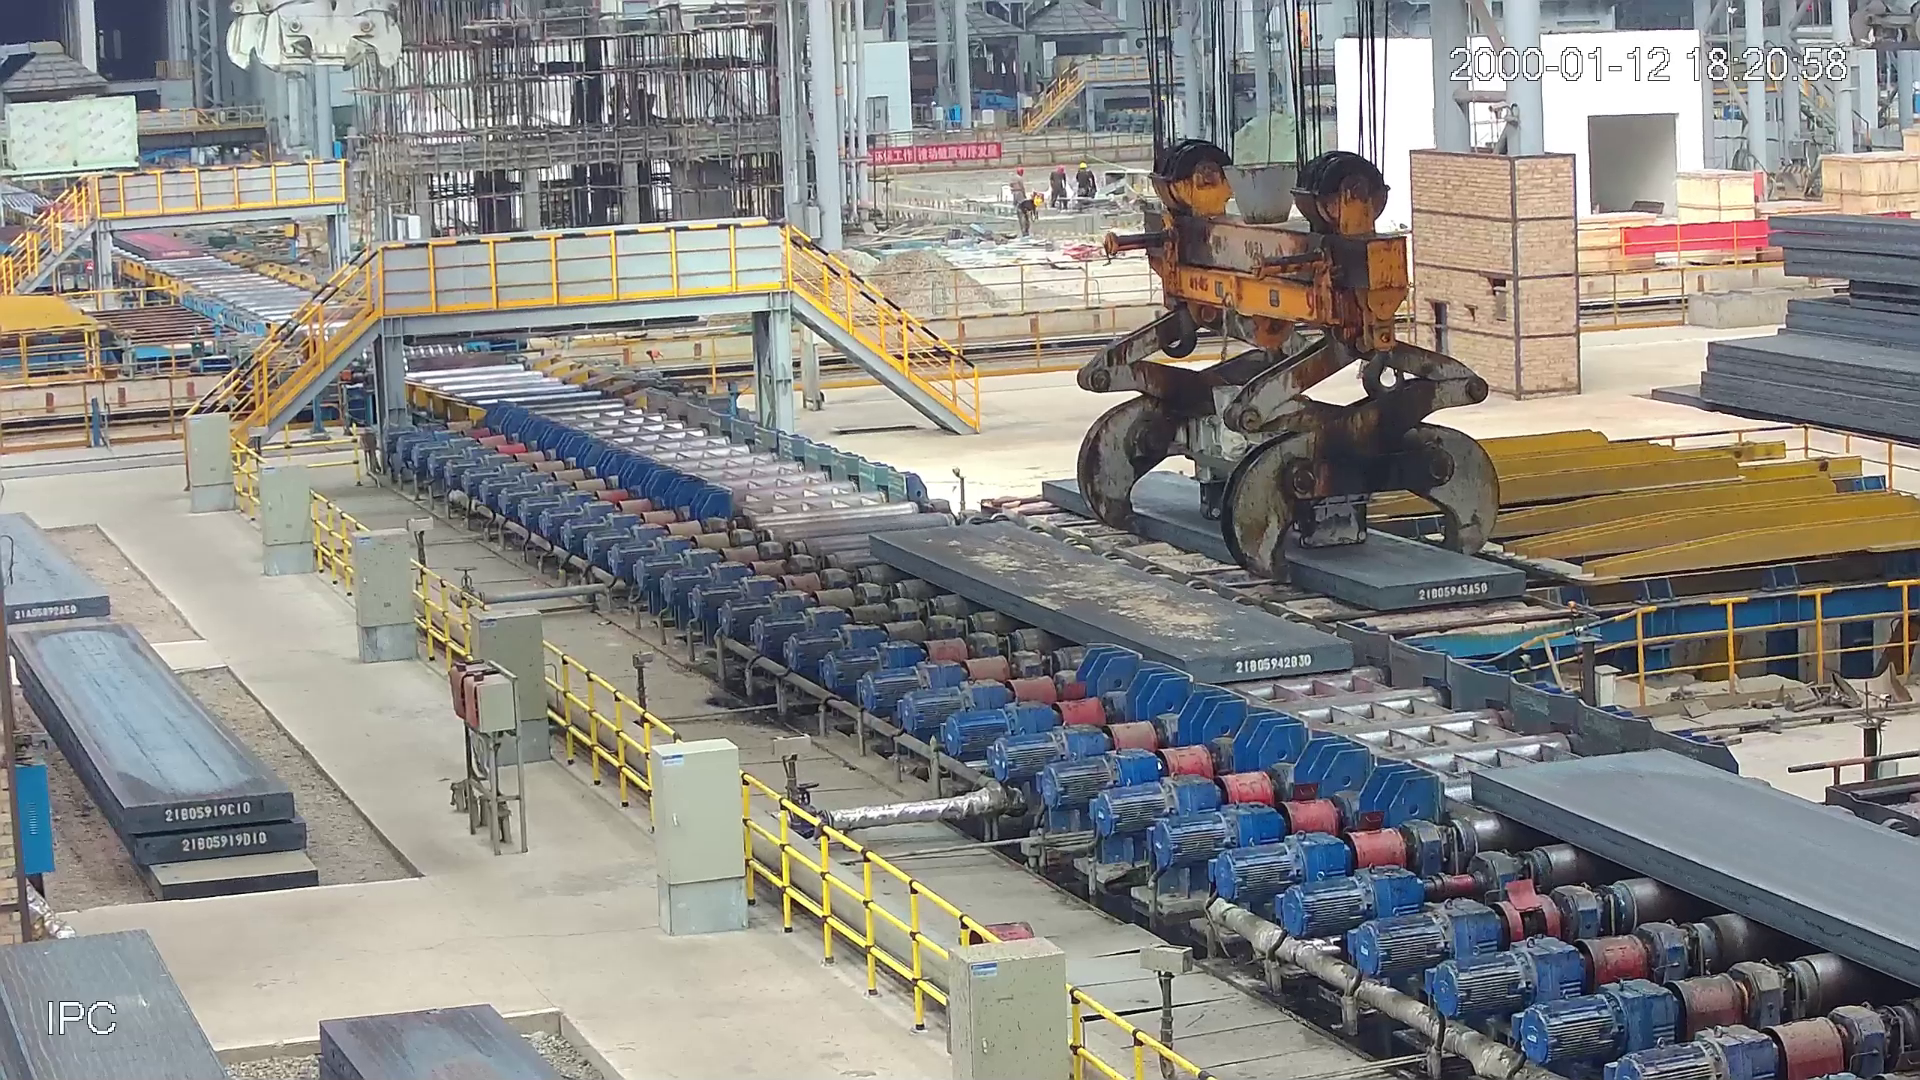craneandslab: (1035, 125, 1551, 621)
slab: (1466, 745, 1920, 986), (856, 518, 1366, 686), (108, 227, 212, 265)
